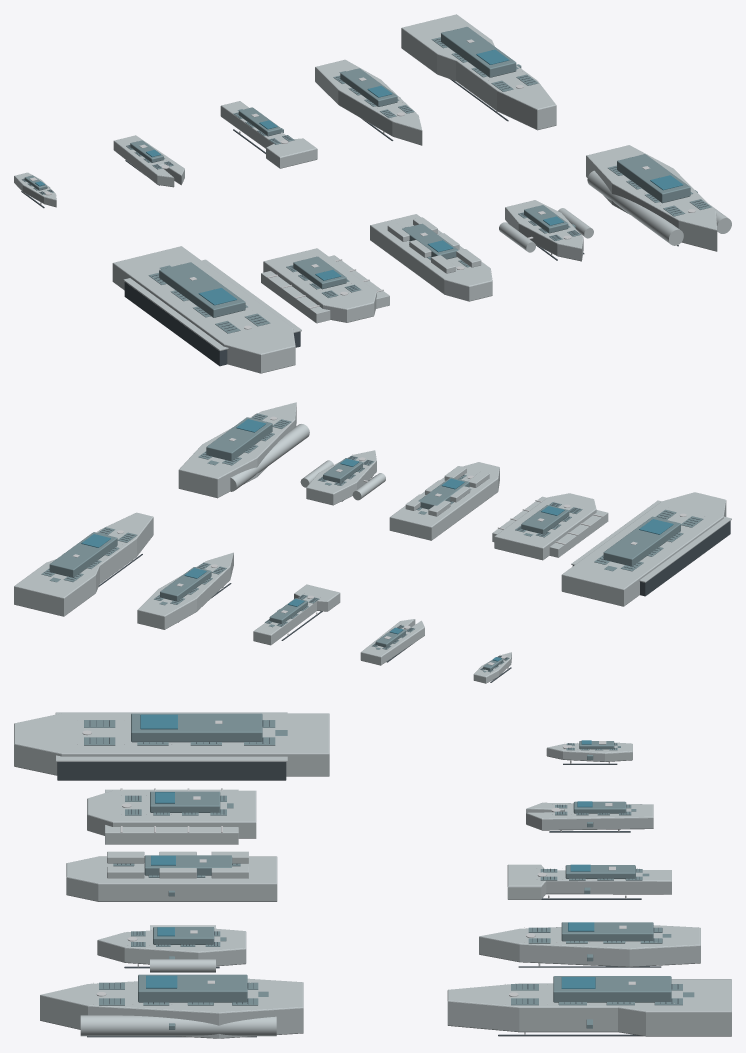
3 renders of one model, top to bottom at view 1: azimuth 30°, elevation 25°; view 2: azimuth 150°, elevation 25°; view 3: azimuth 270°, elevation 25°, orthographic. The views are drawn at different scales.
Parts seen in each view (by area): view 1: 005-carrier-core/2, 004-battleship-core/2, 007-freighter-core/2, 009-colony-ship-core/2, 006-mining-barge-core/2, 003-cruiser-core/2, 005-carrier-core/3, 004-battleship-core/3, 009-colony-ship-core/3, 002-destroyer-core/2, 008-science-vessel-core/2, 005-carrier-core/0 (+10 smaller); view 2: 005-carrier-core/2, 004-battleship-core/2, 007-freighter-core/2, 009-colony-ship-core/2, 006-mining-barge-core/2, 003-cruiser-core/2, 005-carrier-core/3, 004-battleship-core/3, 009-colony-ship-core/3, 002-destroyer-core/2, 008-science-vessel-core/2, 005-carrier-core/0 (+10 smaller); view 3: 005-carrier-core/2, 004-battleship-core/2, 007-freighter-core/2, 009-colony-ship-core/2, 003-cruiser-core/2, 006-mining-barge-core/2, 005-carrier-core/0, 005-carrier-core/3, 004-battleship-core/3, 002-destroyer-core/2, 009-colony-ship-core/3, 009-colony-ship-core/6 (+13 smaller).
Part boxes in pixels (box(x1,y1,x2,y2)): 005-carrier-core/2: box(112, 246, 301, 373); 004-battleship-core/2: box(401, 14, 556, 130); 007-freighter-core/2: box(370, 214, 492, 301); 009-colony-ship-core/2: box(586, 145, 717, 251); 006-mining-barge-core/2: box(263, 248, 376, 322); 003-cruiser-core/2: box(315, 59, 422, 145); 005-carrier-core/3: box(148, 262, 270, 333); 004-battleship-core/3: box(431, 27, 538, 91); 009-colony-ship-core/3: box(608, 154, 711, 216); 002-destroyer-core/2: box(220, 101, 317, 168); 008-science-vessel-core/2: box(505, 200, 583, 261); 005-carrier-core/0: box(124, 274, 300, 366); 005-carrier-core/2: box(561, 492, 731, 606); 004-battleship-core/2: box(14, 512, 153, 616); 007-freighter-core/2: box(389, 462, 499, 540); 009-colony-ship-core/2: box(178, 402, 296, 498); 006-mining-barge-core/2: box(494, 493, 596, 560); 003-cruiser-core/2: box(137, 552, 233, 629); 005-carrier-core/3: box(594, 509, 703, 571); 004-battleship-core/3: box(41, 527, 137, 581); 009-colony-ship-core/3: box(198, 413, 291, 465); 002-destroyer-core/2: box(253, 584, 340, 645); 008-science-vessel-core/2: box(306, 450, 376, 505); 005-carrier-core/0: box(572, 511, 730, 596); 005-carrier-core/2: box(14, 712, 329, 776); 004-battleship-core/2: box(447, 979, 731, 1036); 007-freighter-core/2: box(66, 851, 277, 901); 009-colony-ship-core/2: box(40, 978, 303, 1038); 003-cruiser-core/2: box(479, 925, 700, 967); 006-mining-barge-core/2: box(87, 790, 256, 838); 005-carrier-core/0: box(57, 720, 286, 780); 005-carrier-core/3: box(84, 713, 275, 745); 004-battleship-core/3: box(511, 976, 682, 1028); 002-destroyer-core/2: box(507, 864, 671, 899); 009-colony-ship-core/3: box(99, 974, 258, 1029); 009-colony-ship-core/6: box(80, 1015, 276, 1036).
Size of the model in its own units: 69.87 by 4.68 by 68.7.
